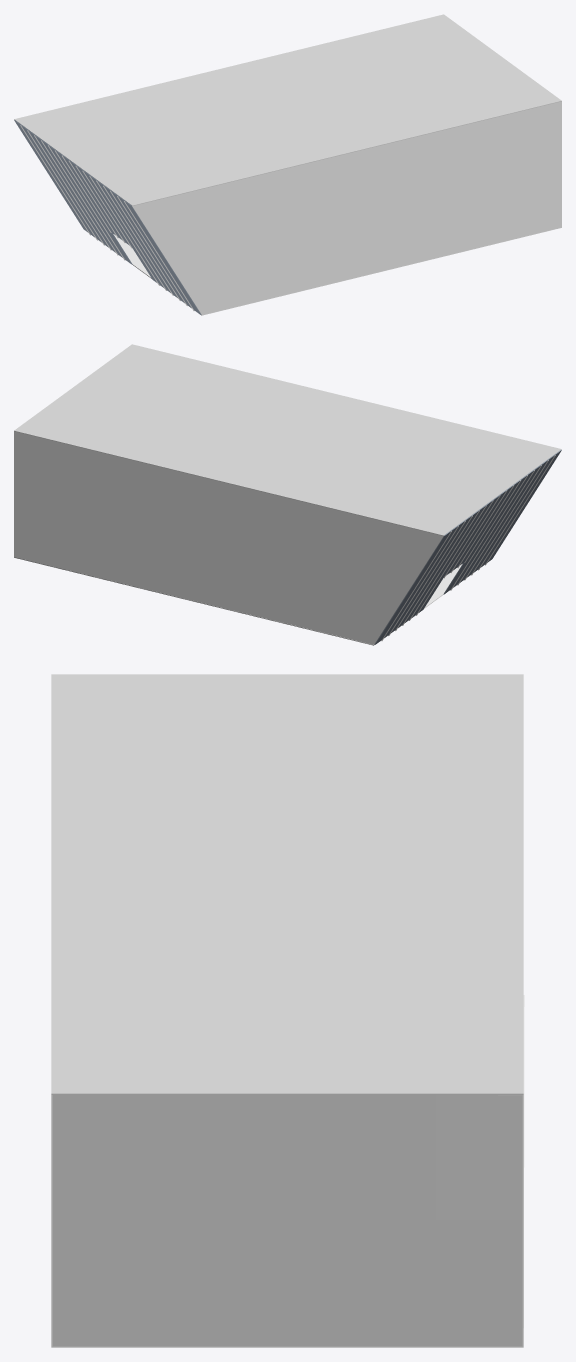
Rendered from 展馆v2.2.2.glb.
The picture shows the model from 3 angles, top to bottom: view 1: azimuth 30°, elevation 25°; view 2: azimuth 150°, elevation 25°; view 3: azimuth 270°, elevation 25°; orthographic projection. The views are drawn at different scales.
Visible parts, largest first — view 1: 楼顶, X墙, 斜墙, 幕墙装饰, 玻璃幕墙4, 玻璃幕墙8, 地板1层, 玻璃幕墙1, 玻璃幕墙2, 玻璃幕墙3, 玻璃幕墙6, 玻璃幕墙7; view 2: 楼顶, X墙, 斜墙, 幕墙装饰, 玻璃幕墙4, 玻璃幕墙1, 地板1层, 玻璃幕墙8, 玻璃幕墙6, 玻璃幕墙3, 玻璃幕墙7, 玻璃幕墙2 (+1 smaller); view 3: 楼顶, 1层y墙, 2层y墙, 地板1层, X墙.
Part boxes in pixels (x1,y1,x2,y2): 楼顶: (14, 14, 561, 205); X墙: (202, 101, 561, 314); 斜墙: (132, 189, 201, 314); 幕墙装饰: (20, 125, 194, 310); 玻璃幕墙4: (55, 150, 132, 264); 玻璃幕墙8: (118, 195, 201, 314); 地板1层: (113, 227, 561, 315); 玻璃幕墙1: (14, 120, 94, 237); 玻璃幕墙2: (28, 130, 108, 247); 玻璃幕墙3: (42, 140, 122, 257); 玻璃幕墙6: (90, 175, 170, 292); 玻璃幕墙7: (104, 185, 184, 303); 楼顶: (14, 344, 561, 535); X墙: (14, 431, 373, 644); 斜墙: (374, 519, 443, 644); 幕墙装饰: (381, 455, 555, 640); 玻璃幕墙4: (419, 485, 513, 612); 玻璃幕墙1: (374, 525, 457, 644); 地板1层: (14, 557, 462, 645); 玻璃幕墙8: (481, 449, 561, 567); 玻璃幕墙6: (453, 470, 533, 587); 玻璃幕墙3: (405, 505, 485, 622); 玻璃幕墙7: (467, 460, 547, 577); 玻璃幕墙2: (391, 515, 471, 632); 楼顶: (51, 674, 523, 1094); 1层y墙: (53, 1220, 522, 1346); 2层y墙: (53, 1095, 522, 1219); 地板1层: (51, 995, 524, 1347); X墙: (51, 1095, 523, 1346).
Size of the model in its own units: 36.03 by 10.21 by 17.13.
